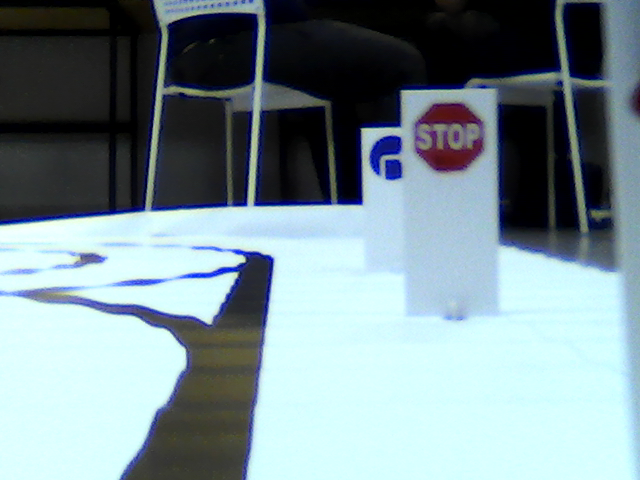Right: (370, 133, 406, 178)
Stop: (415, 101, 485, 167)
